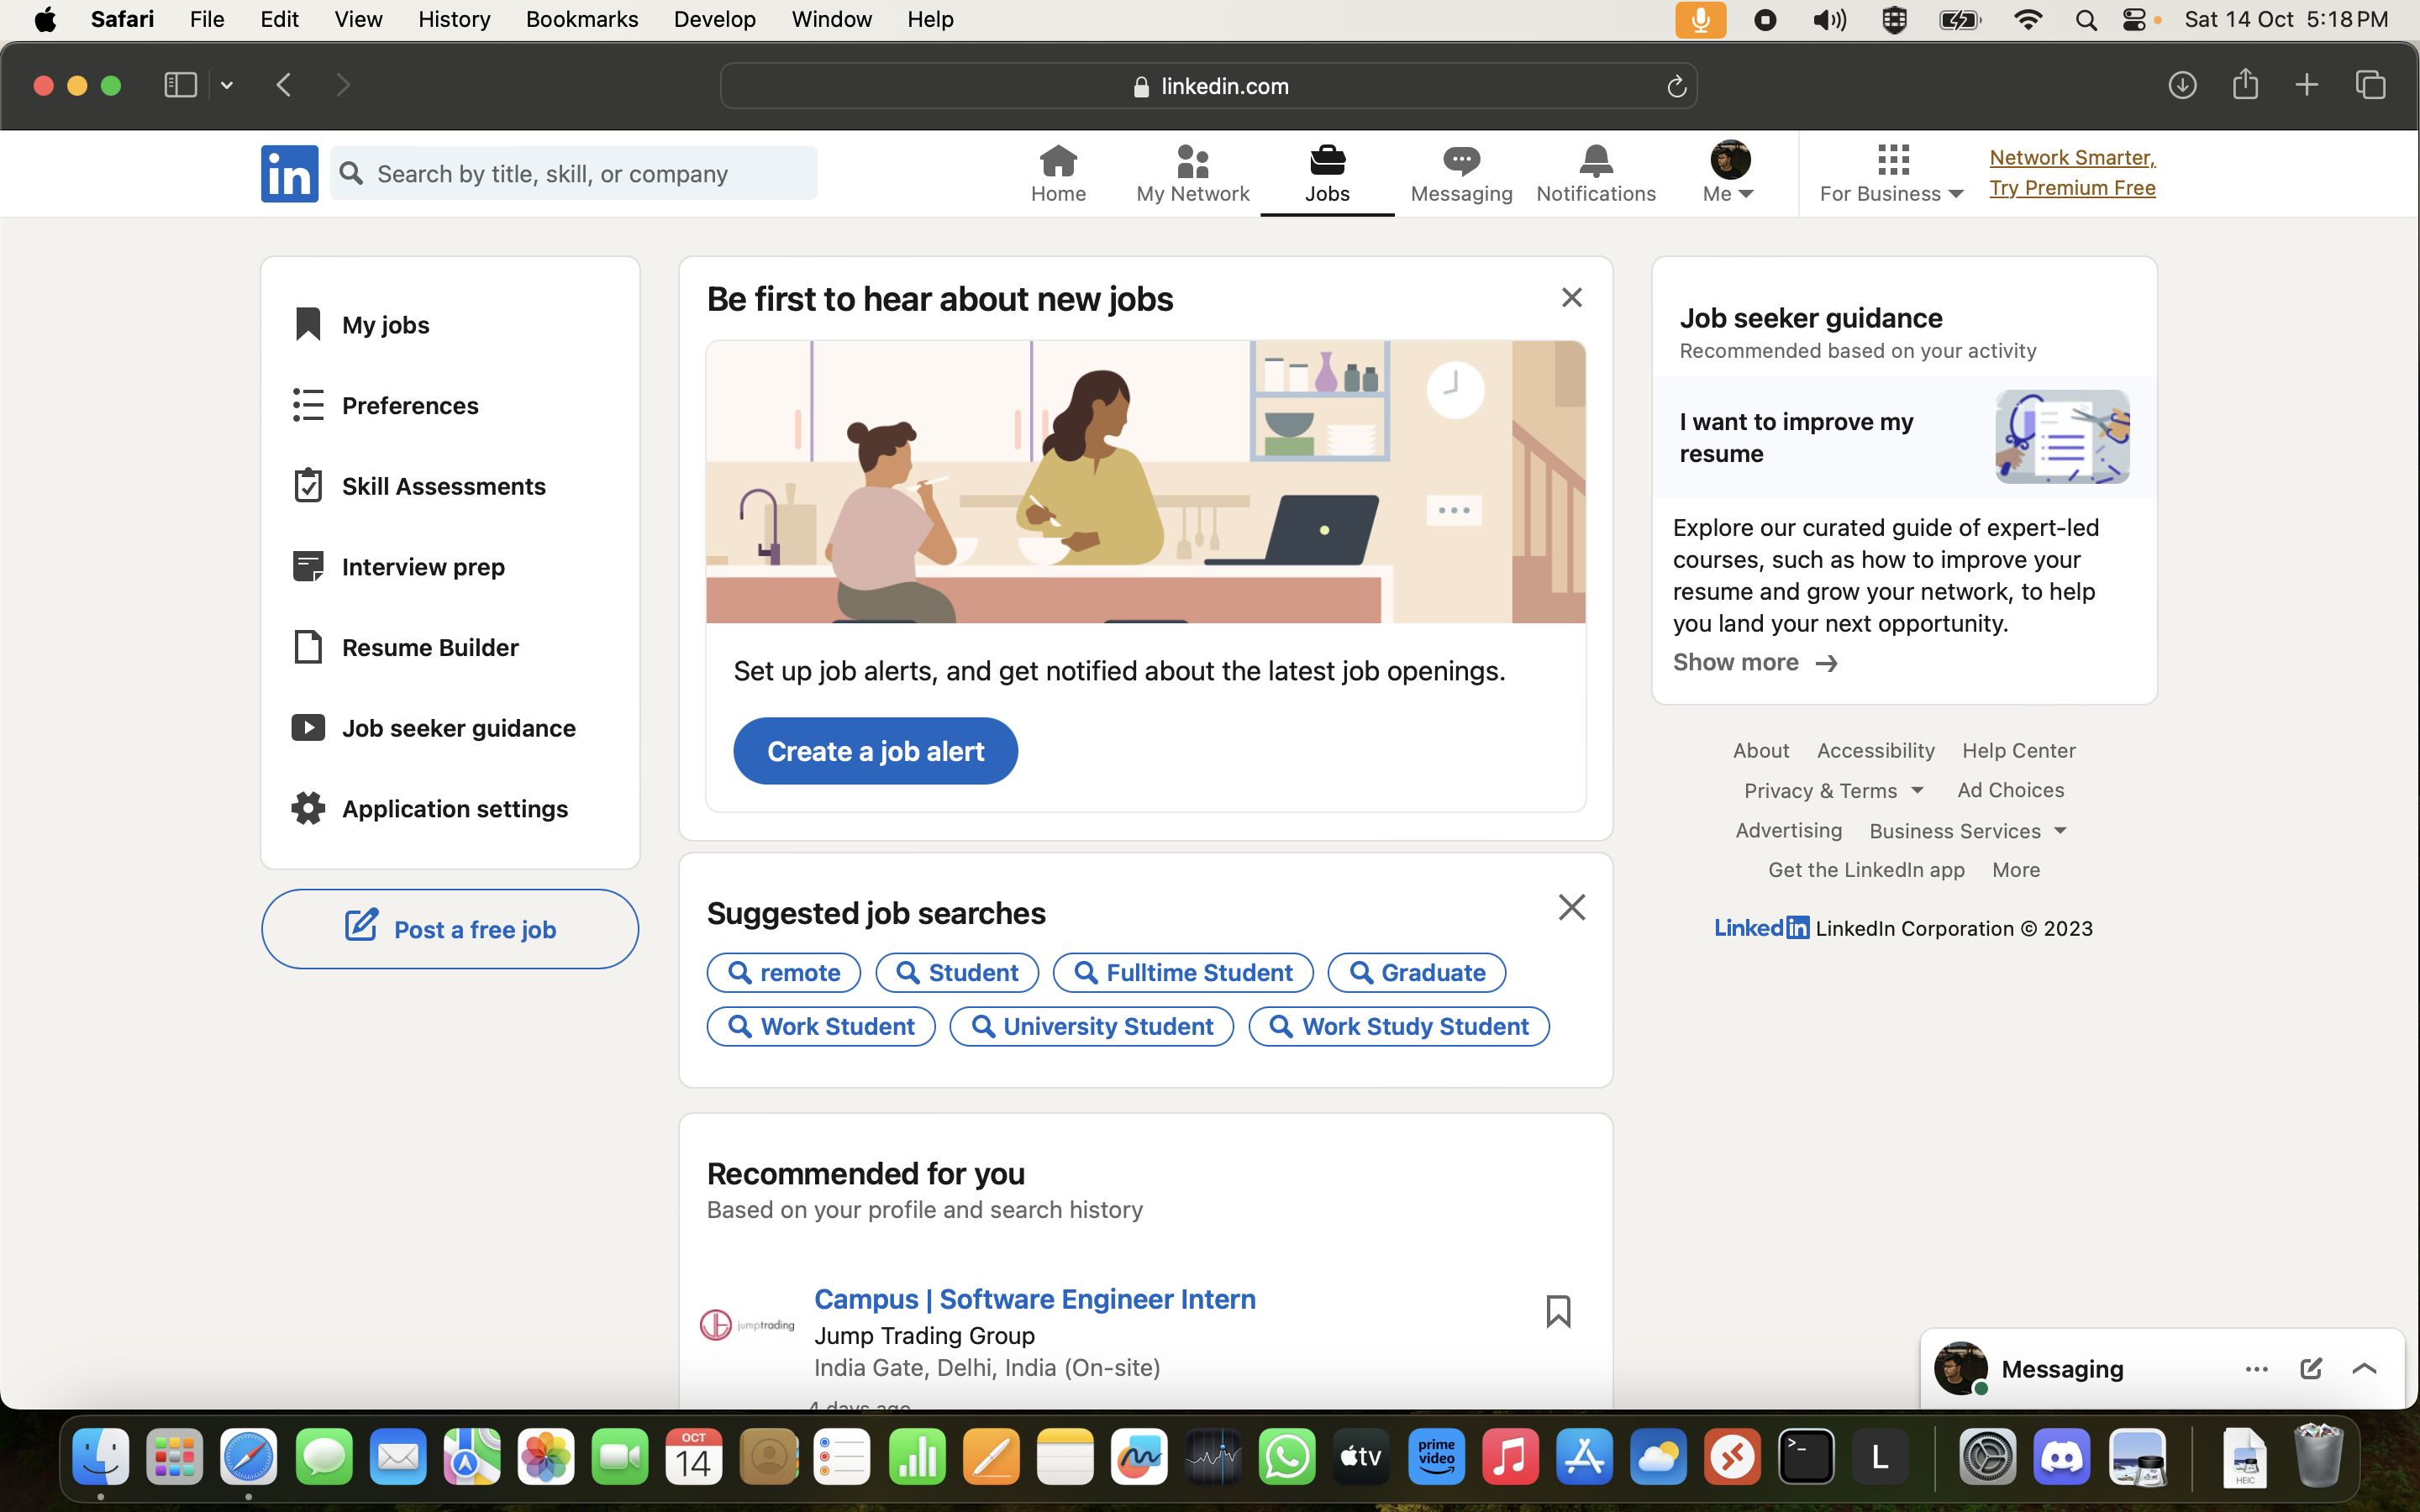Image: (713, 336, 1578, 620), (1993, 390, 2126, 486), (251, 453, 347, 524), (284, 371, 336, 439), (254, 145, 319, 199), (284, 693, 340, 751), (268, 549, 336, 594), (287, 617, 329, 683), (291, 793, 333, 833), (301, 301, 333, 350)
Paragraph: (1671, 496, 2113, 686), (727, 648, 1530, 712), (686, 1144, 1173, 1242), (1671, 298, 2058, 375), (793, 1265, 1272, 1324), (368, 145, 751, 202), (803, 1331, 1197, 1385), (1671, 397, 1934, 477), (693, 885, 1056, 939), (697, 277, 1186, 315), (1293, 1002, 1544, 1052), (336, 700, 584, 747), (340, 371, 507, 439), (343, 789, 587, 833), (1098, 946, 1300, 998), (995, 1002, 1221, 1042), (761, 1002, 927, 1045), (340, 624, 524, 662), (347, 470, 538, 503), (779, 744, 998, 772), (1993, 1350, 2133, 1388), (329, 549, 514, 577), (340, 301, 453, 343), (751, 956, 857, 995), (1371, 956, 1495, 988), (923, 949, 1033, 984)
